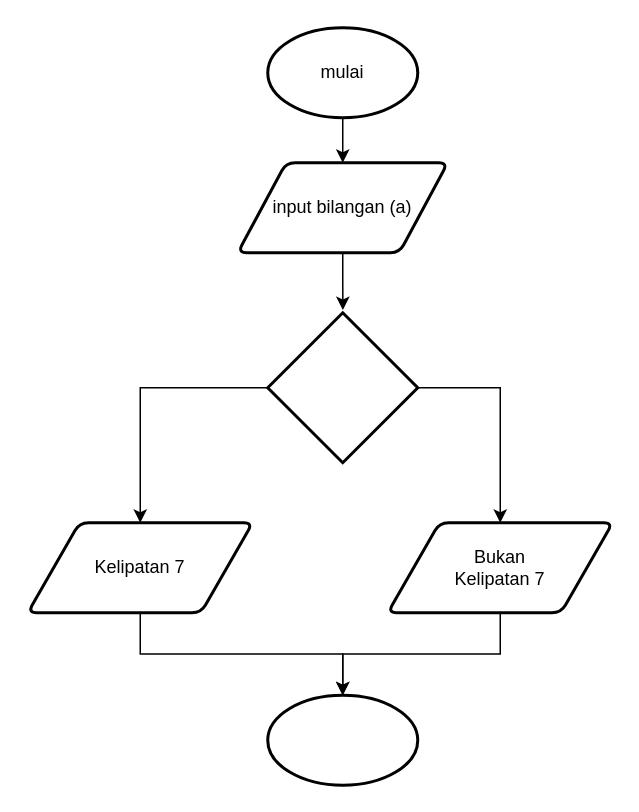
Some shapes in this 639 by 812 pixel diagram are drawn without their labels. Here are the shapes that lost their labels. From the top down, the centre of each, then its label:
point (342, 387): a%7==0
point (342, 739): Selesai
